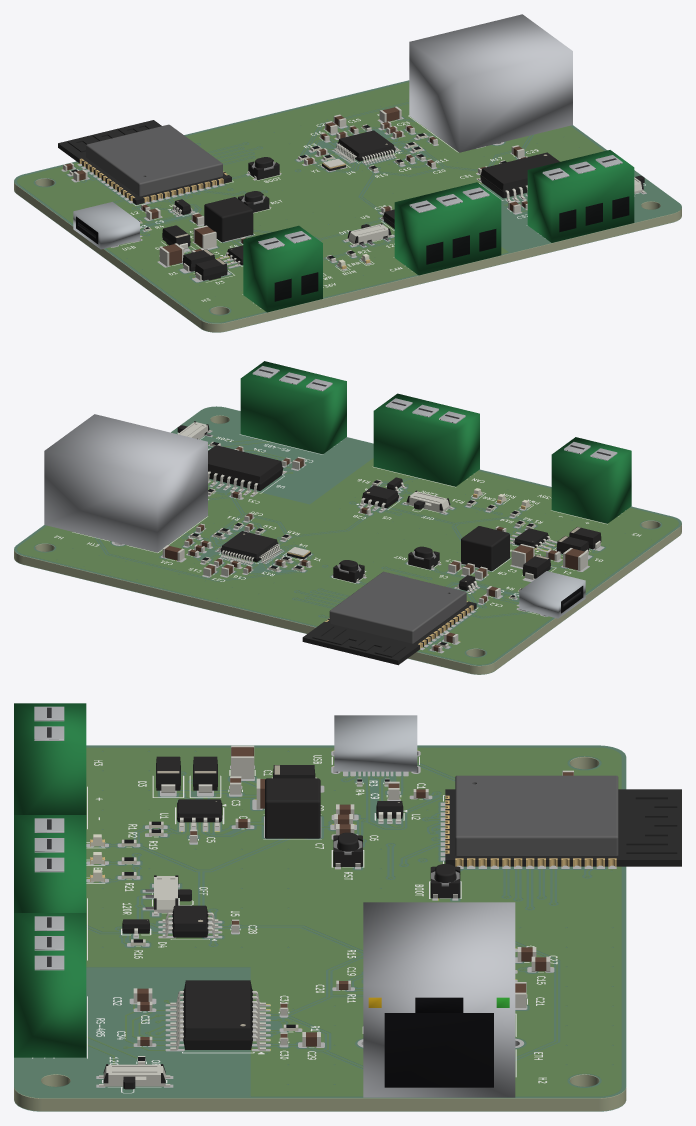
File: board.glb
3 views of the same model, one above another, from view 1: azimuth 30°, elevation 25°; view 2: azimuth 150°, elevation 25°; view 3: azimuth 270°, elevation 25° (orthographic). The views are drawn at different scales.
Visible parts, largest first — view 1: board_soldermask (×2), board_copper, rj45_hanrun_hr911105a (rj45_hanrun_hr911105a.wrl), maixu_mx126_5.0_03p (maixu_mx126_5.0_03p.wrl) (×2), board_PCB, ESP32-S3-WROOM-1, maixu_mx126_5.0_02p (maixu_mx126_5.0_02p.wrl), usb_c_hro_type-c-31-m-12 (usb_c_hro_type-c-31-m-12.wrl), SOIC-20W_7.5x12.8mm_P1.27mm, board_pad, a6c16512-8551-11ed-a139-00155d22e2d7_part, board_silkscreen (+4 smaller); view 2: board_soldermask (×2), board_copper, rj45_hanrun_hr911105a (rj45_hanrun_hr911105a.wrl), maixu_mx126_5.0_03p (maixu_mx126_5.0_03p.wrl) (×2), board_PCB, ESP32-S3-WROOM-1, maixu_mx126_5.0_02p (maixu_mx126_5.0_02p.wrl), SOIC-20W_7.5x12.8mm_P1.27mm, usb_c_hro_type-c-31-m-12 (usb_c_hro_type-c-31-m-12.wrl), board_pad, board_silkscreen, a6c16512-8551-11ed-a139-00155d22e2d7_part (+7 smaller); view 3: board_soldermask (×2), board_copper, board_PCB, rj45_hanrun_hr911105a (rj45_hanrun_hr911105a.wrl), ESP32-S3-WROOM-1, maixu_mx126_5.0_03p (maixu_mx126_5.0_03p.wrl) (×2), maixu_mx126_5.0_02p (maixu_mx126_5.0_02p.wrl), SOIC-20W_7.5x12.8mm_P1.27mm, usb_c_hro_type-c-31-m-12 (usb_c_hro_type-c-31-m-12.wrl), board_pad, board_silkscreen, a6c16512-8551-11ed-a139-00155d22e2d7_part (+6 smaller).
Boxes of the visible parts, x1,y1,x2,y2 form: board_soldermask (×2): [14, 80, 681, 332]; board_copper: [17, 82, 603, 321]; rj45_hanrun_hr911105a (rj45_hanrun_hr911105a.wrl): [409, 14, 572, 152]; maixu_mx126_5.0_03p (maixu_mx126_5.0_03p.wrl) (×2): [394, 150, 634, 275]; board_PCB: [14, 81, 681, 332]; ESP32-S3-WROOM-1: [58, 120, 231, 204]; maixu_mx126_5.0_02p (maixu_mx126_5.0_02p.wrl): [243, 225, 322, 312]; usb_c_hro_type-c-31-m-12 (usb_c_hro_type-c-31-m-12.wrl): [73, 202, 139, 249]; SOIC-20W_7.5x12.8mm_P1.27mm: [478, 152, 559, 201]; board_pad: [61, 117, 646, 282]; a6c16512-8551-11ed-a139-00155d22e2d7_part: [204, 197, 253, 242]; board_silkscreen: [69, 114, 645, 308]; board_soldermask (×2): [14, 406, 681, 674]; board_copper: [17, 440, 678, 664]; rj45_hanrun_hr911105a (rj45_hanrun_hr911105a.wrl): [44, 414, 207, 552]; maixu_mx126_5.0_03p (maixu_mx126_5.0_03p.wrl) (×2): [240, 361, 479, 486]; board_PCB: [14, 407, 681, 674]; ESP32-S3-WROOM-1: [302, 571, 476, 665]; maixu_mx126_5.0_02p (maixu_mx126_5.0_02p.wrl): [551, 437, 631, 523]; SOIC-20W_7.5x12.8mm_P1.27mm: [208, 445, 285, 495]; usb_c_hro_type-c-31-m-12 (usb_c_hro_type-c-31-m-12.wrl): [519, 571, 585, 618]; board_pad: [111, 430, 604, 653]; board_silkscreen: [54, 432, 641, 651]; a6c16512-8551-11ed-a139-00155d22e2d7_part: [461, 526, 509, 570]; board_soldermask (×2): [14, 745, 626, 1111]; board_copper: [86, 748, 620, 1095]; board_PCB: [14, 746, 626, 1111]; rj45_hanrun_hr911105a (rj45_hanrun_hr911105a.wrl): [363, 902, 515, 1097]; ESP32-S3-WROOM-1: [445, 775, 681, 866]; maixu_mx126_5.0_03p (maixu_mx126_5.0_03p.wrl) (×2): [14, 815, 86, 1057]; maixu_mx126_5.0_02p (maixu_mx126_5.0_02p.wrl): [14, 703, 86, 814]; SOIC-20W_7.5x12.8mm_P1.27mm: [170, 980, 265, 1050]; usb_c_hro_type-c-31-m-12 (usb_c_hro_type-c-31-m-12.wrl): [334, 715, 417, 771]; board_pad: [86, 750, 616, 1087]; board_silkscreen: [32, 755, 557, 1093]; a6c16512-8551-11ed-a139-00155d22e2d7_part: [265, 778, 320, 838].
Bounding box in the file's own units: 0.0906 × 0.015 × 0.072.
